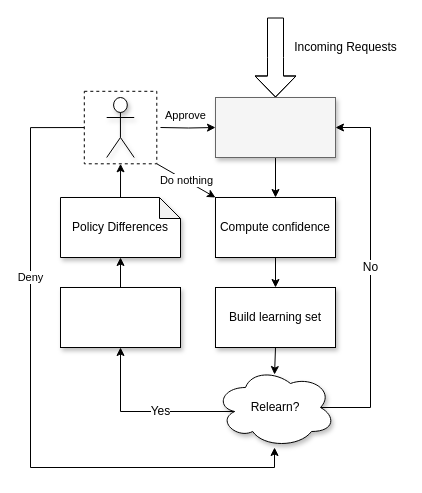
This 422x493 diagram has some shape labels left out. The centre of each missing label's shape, as x and y in pixels:
"Enforce policy" belongs at point (276, 128).
"Learn policy" belongs at point (121, 318).
